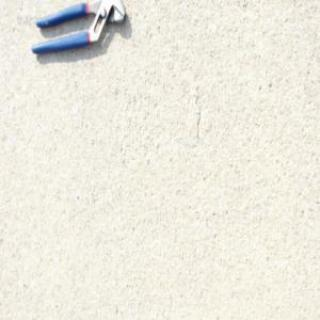Pliertrack_idkeyframe: (28, 0, 127, 54)
